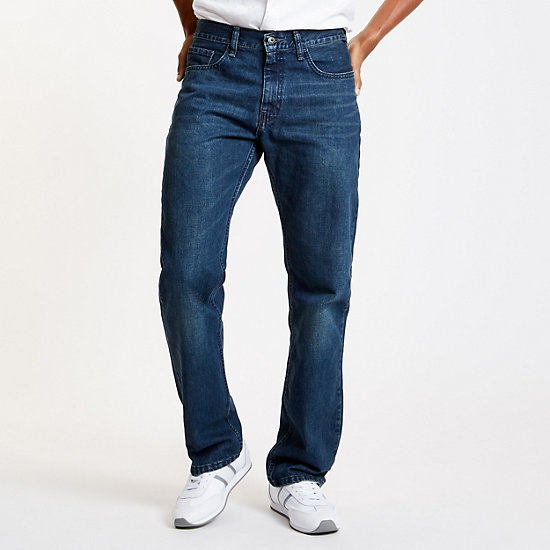Jeans: (156, 19, 366, 489)
